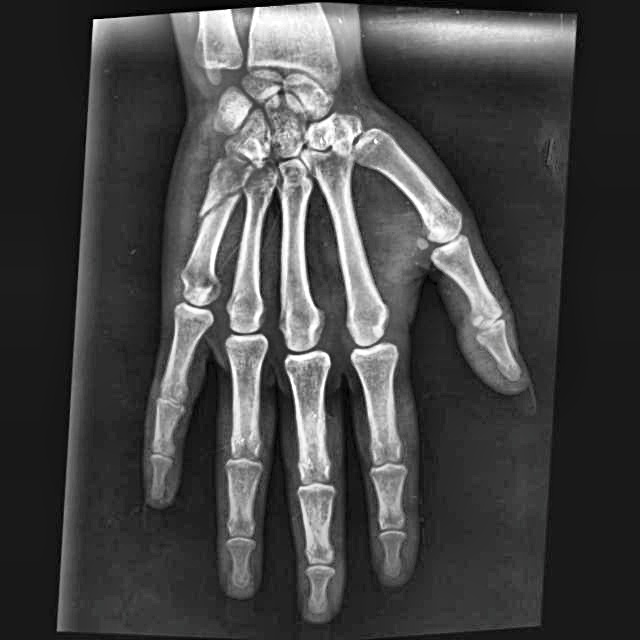Oblique Displaced: (177, 155, 257, 235)
